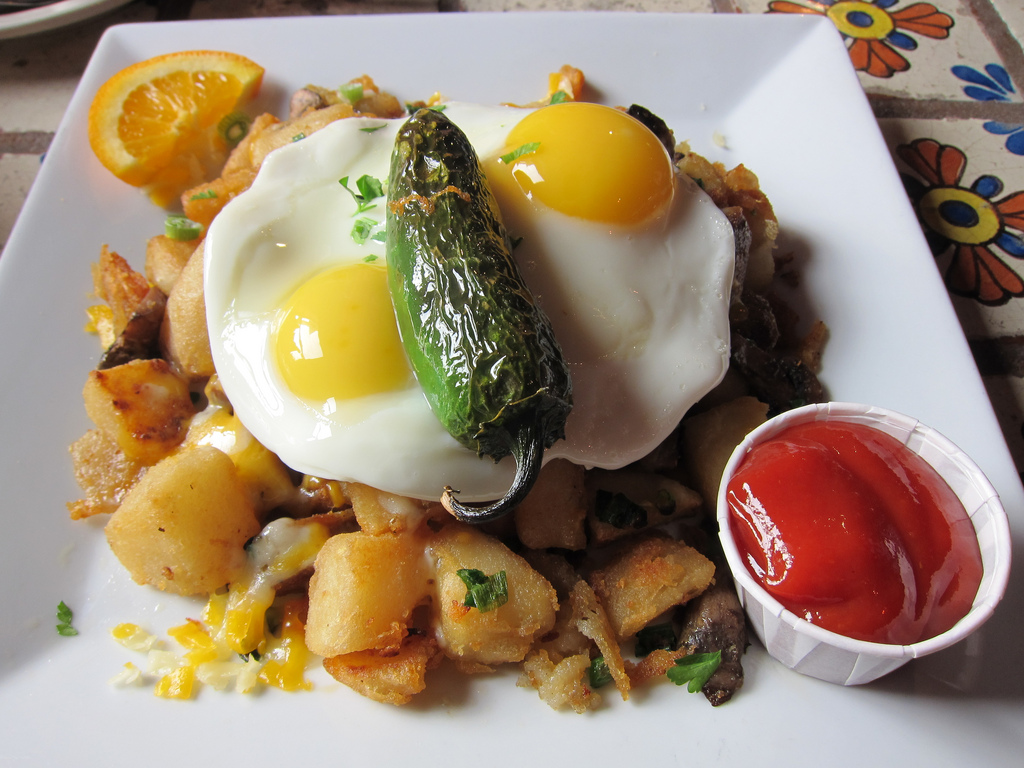boiled potatoes: (426, 533, 558, 674), (119, 455, 240, 589), (319, 533, 421, 659), (77, 357, 181, 450)
fried egg: (477, 105, 727, 427), (223, 116, 418, 470)
